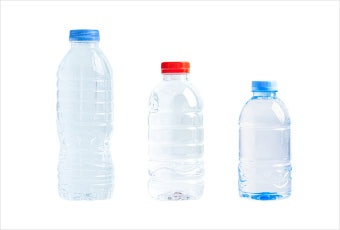plastic: (57, 29, 116, 199)
